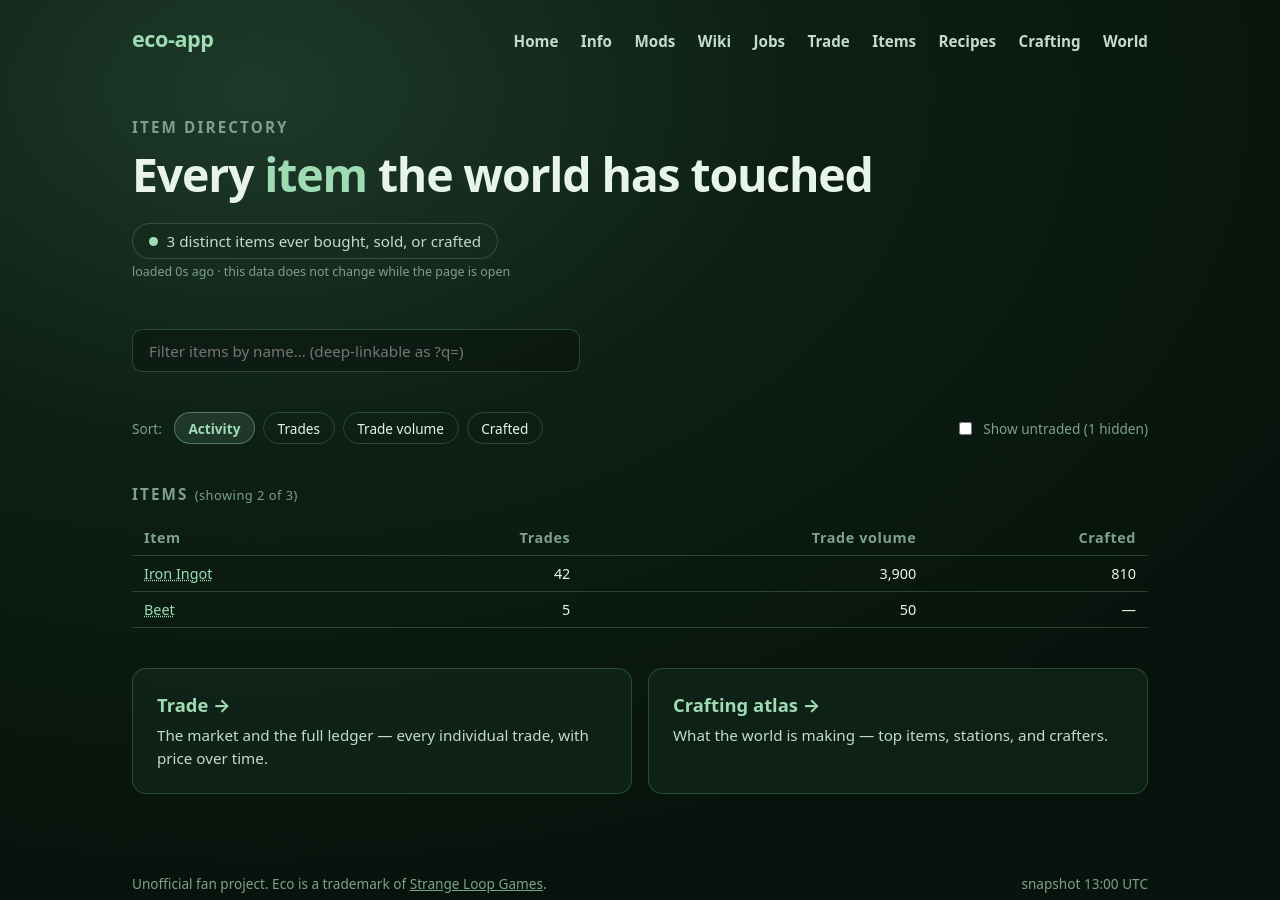
Test: Items › typing into the filter narrows the list
Expected: the link "Iron Ingot" is shown, top-left (144, 564), bottom-right (212, 583)
Type "beet" into the search field with test id "items-filter" at (356, 351), box top-left (132, 329), bottom-right (580, 372)
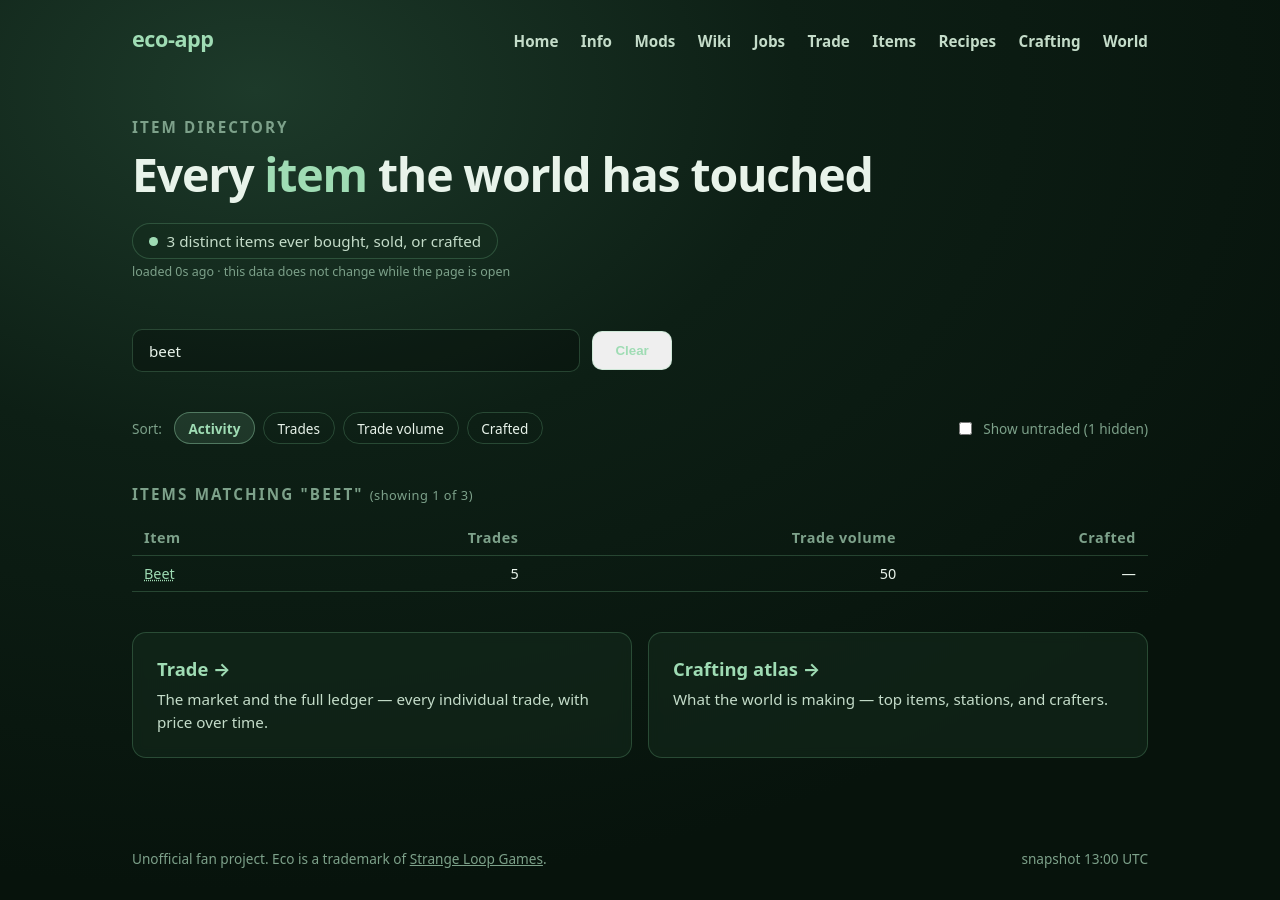
Expected: the link "Beet" is shown, top-left (144, 564), bottom-right (175, 583)
Now the link "Iron Ingot" is gone
